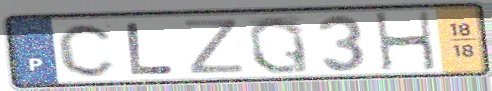3: (315, 12, 368, 75)
C: (55, 21, 120, 79)
H: (372, 9, 440, 73)
L: (123, 21, 179, 77)
Q: (245, 13, 313, 76)
Z: (181, 17, 250, 77)
